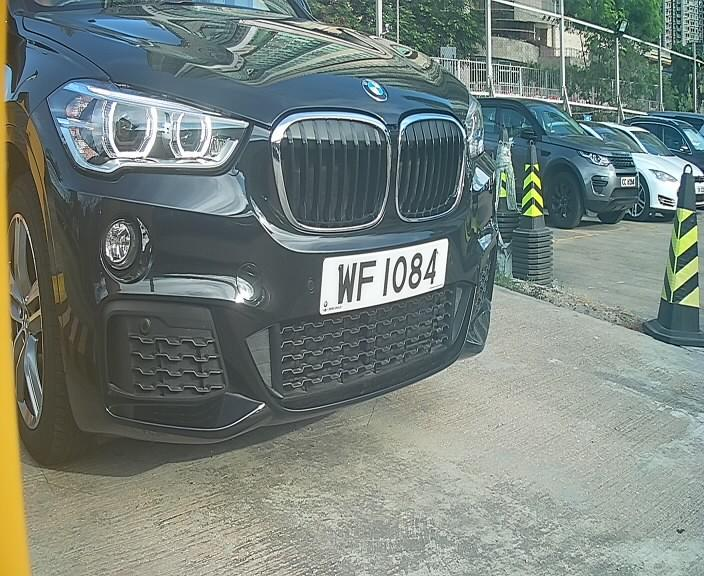privatecar: (7, 3, 532, 448)
